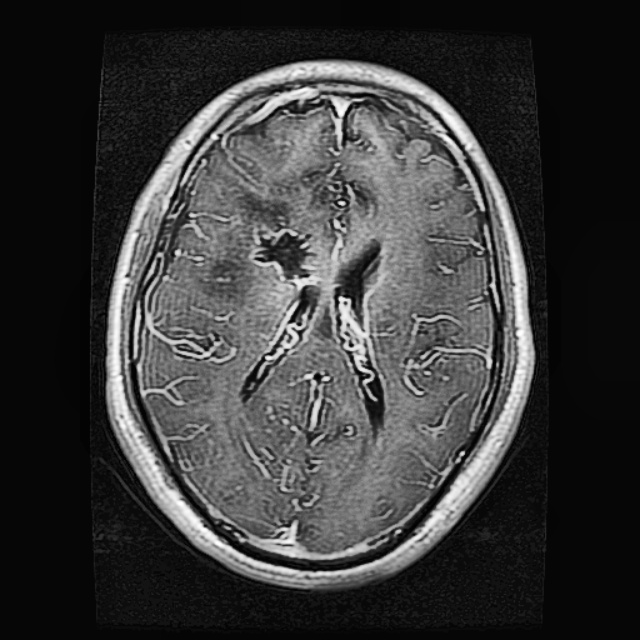Glioma: (187, 190, 315, 308)
